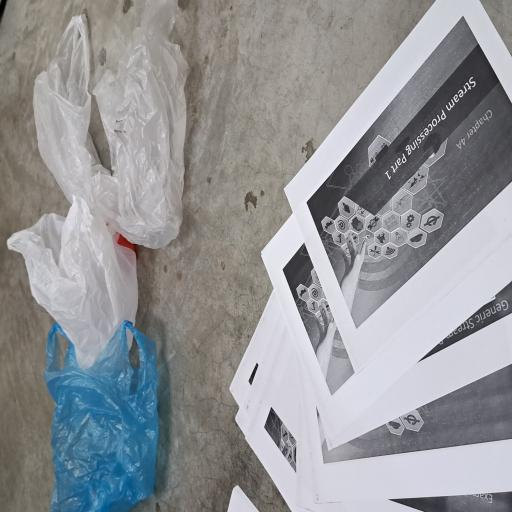paper: (0, 300, 384, 512)
plastic bag: (0, 10, 374, 246)
